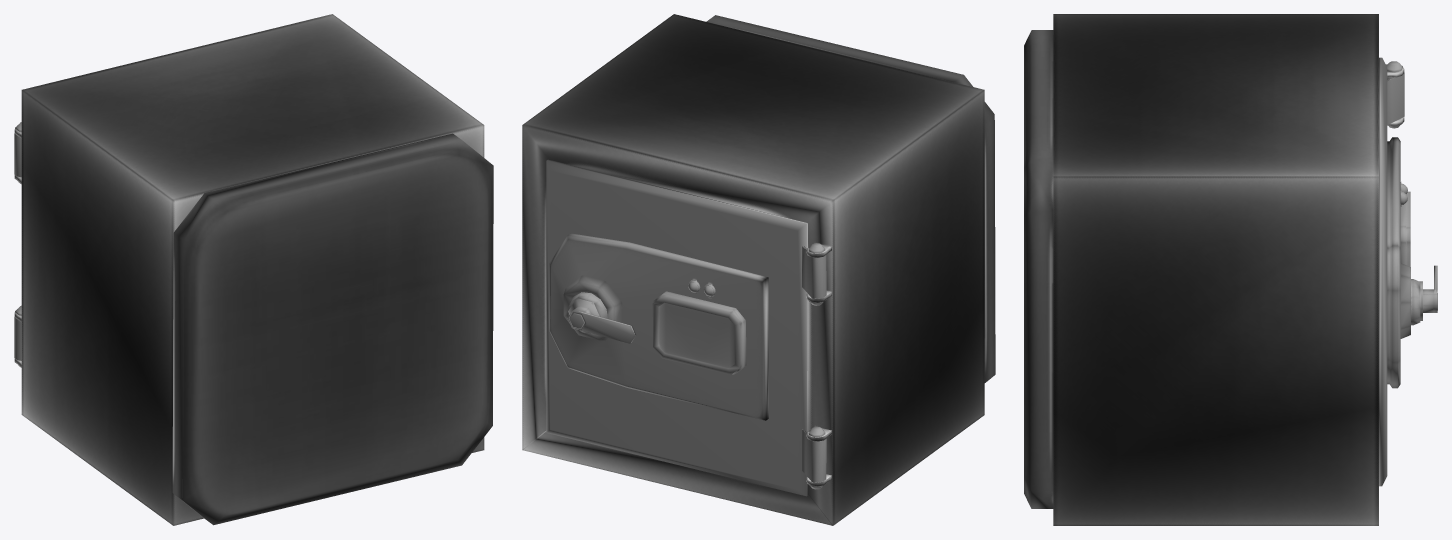
Rendered from Safe_SmallSquare.fbx.
3 renders of one model, left to right at view 1: azimuth 30°, elevation 25°; view 2: azimuth 150°, elevation 25°; view 3: azimuth 270°, elevation 25°, orthographic. The views are drawn at different scales.
Visible parts, largest first — view 1: Safe_Body_SmallSquare, Group6748; view 2: Safe_Body_SmallSquare, Group16624, Group9943, Group34044, Group6748, Group42944; view 3: Safe_Body_SmallSquare, Group9943, Group16624, Group6748, Group34044, Group42944.
Part boxes in pixels (bbox=[...]): Safe_Body_SmallSquare: bbox=[14, 14, 493, 525]; Group6748: bbox=[14, 133, 21, 360]; Safe_Body_SmallSquare: bbox=[522, 14, 995, 525]; Group16624: bbox=[546, 159, 807, 496]; Group9943: bbox=[549, 233, 768, 420]; Group34044: bbox=[652, 291, 746, 374]; Group6748: bbox=[802, 246, 826, 482]; Group42944: bbox=[567, 298, 636, 343]; Safe_Body_SmallSquare: bbox=[1024, 14, 1404, 525]; Group9943: bbox=[1387, 137, 1410, 388]; Group16624: bbox=[1379, 57, 1387, 486]; Group6748: bbox=[1387, 73, 1404, 125]; Group34044: bbox=[1400, 191, 1410, 266]; Group42944: bbox=[1419, 265, 1437, 320].
Bounding box in the file's own units: 65.67 × 65.52 × 70.36.
Materials: 2 (2 with a texture image).
